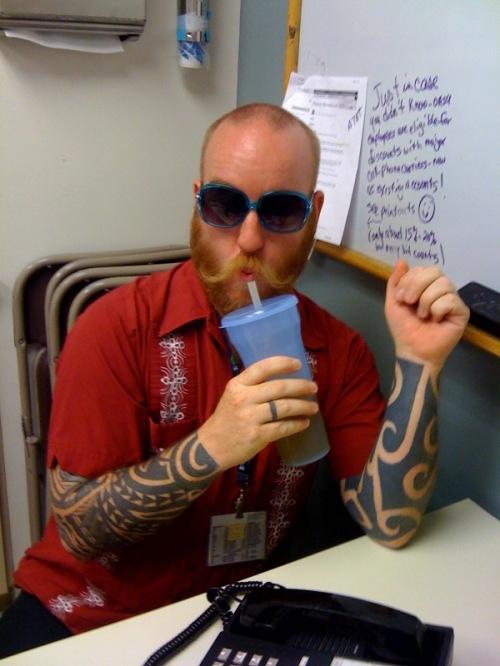person: (3, 101, 469, 660)
